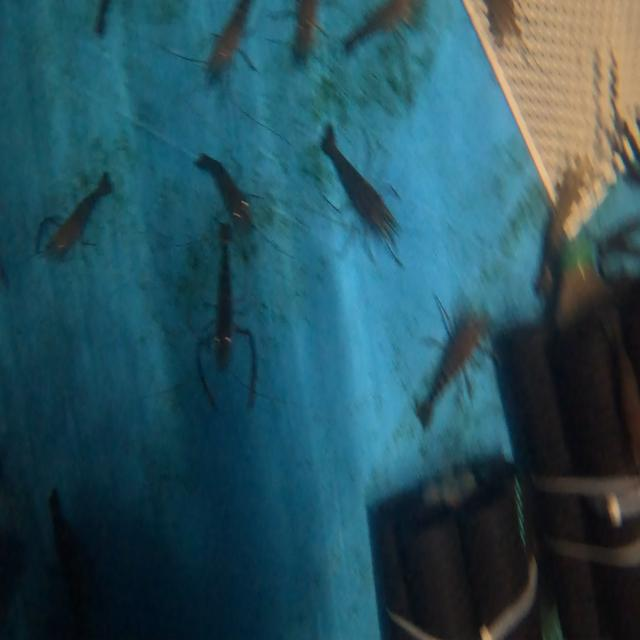prawn: (195, 155, 249, 369), (321, 126, 396, 244), (414, 319, 482, 428), (44, 173, 111, 256), (195, 154, 249, 222)
